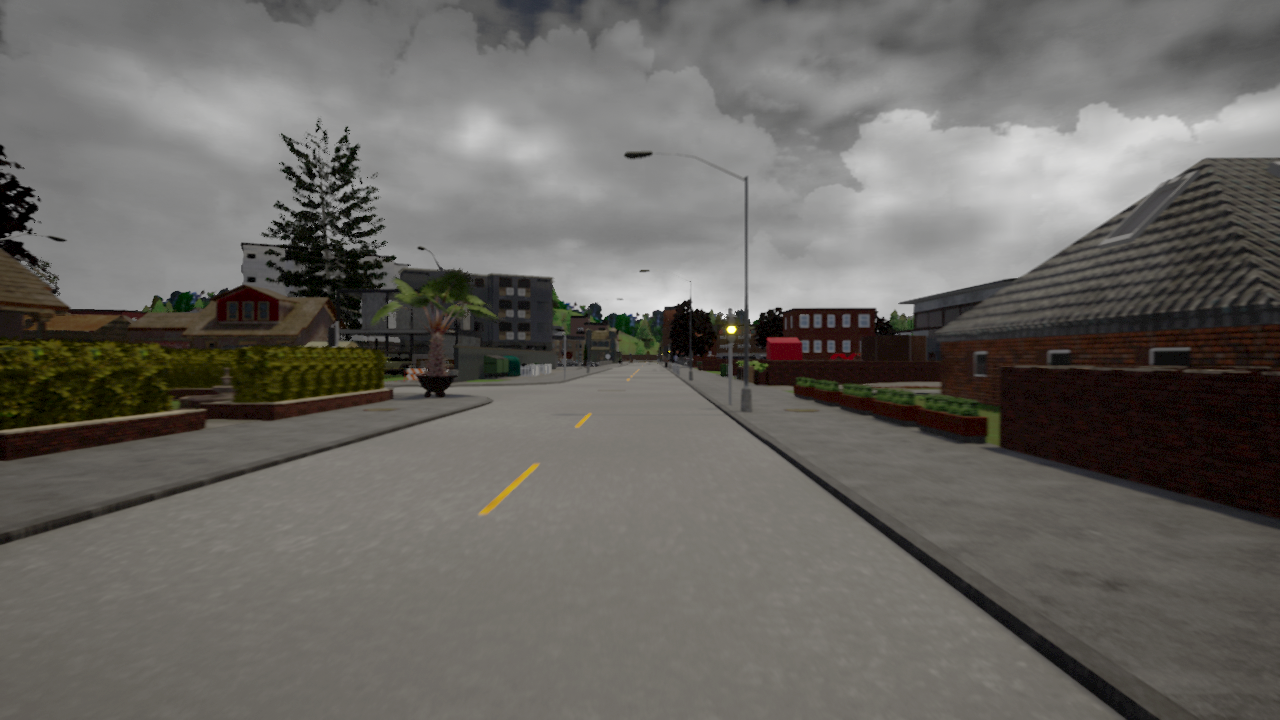yellow: (725, 315, 738, 346)
